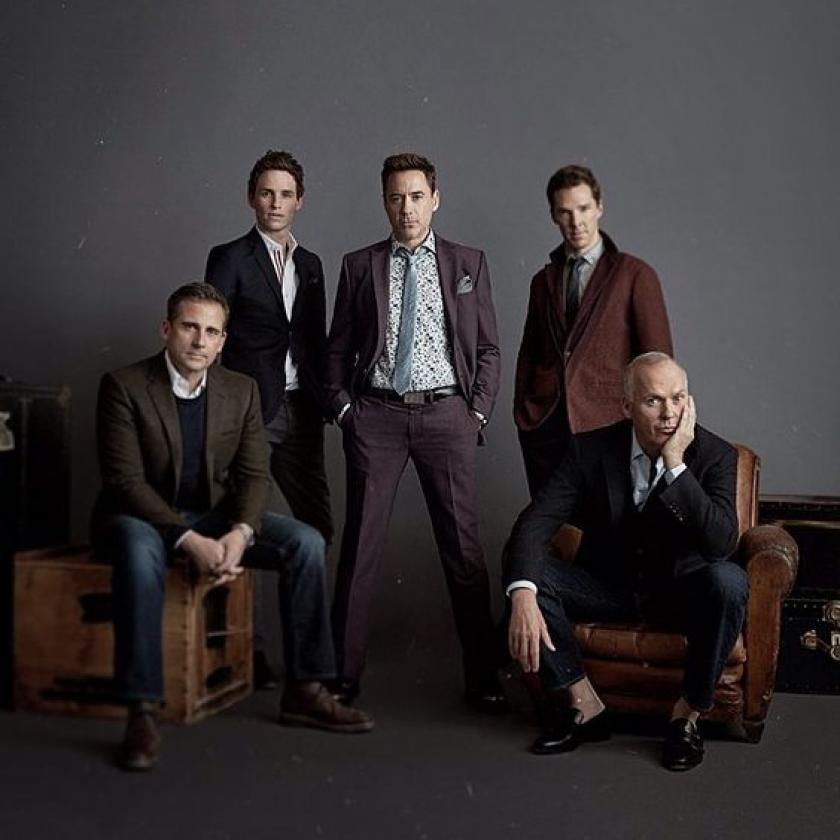Sin_casco: (620, 353, 692, 459), (163, 280, 232, 375), (546, 160, 606, 262), (248, 151, 308, 241), (381, 152, 439, 240)
